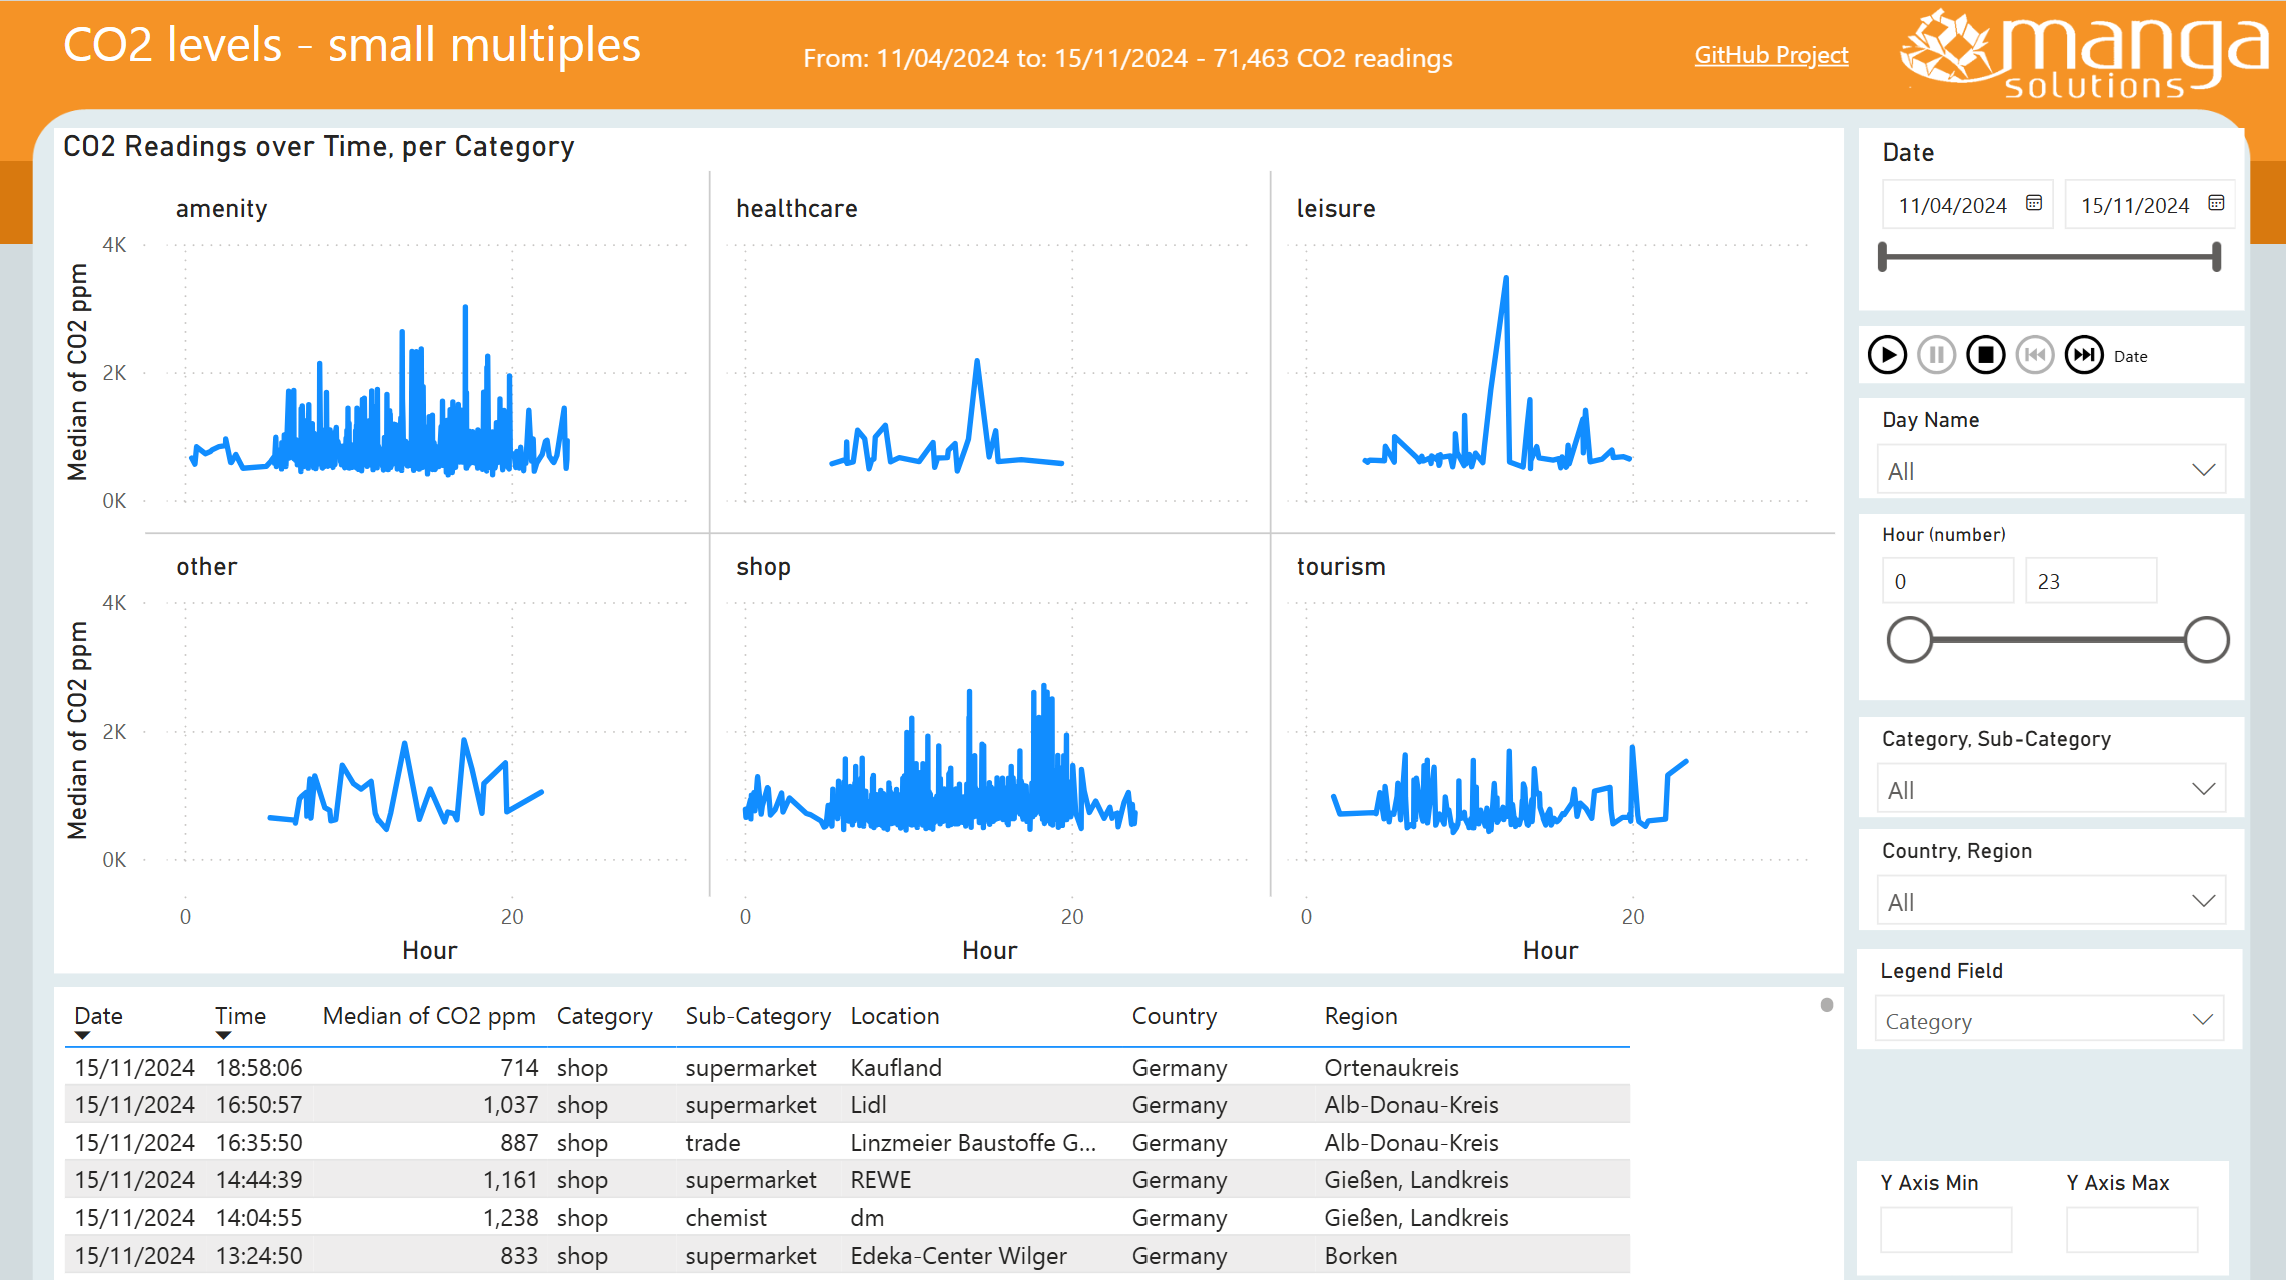

The dashboard page shown, as its layout file describes it:
{"tool":"powerbi","page":{"name":"Small Multiples","canvas":[1280,720],"ordinal":6},"visuals":[{"type":"slicer","fields":{"Values":["Y Axis Max.Y Axis Max"]},"box":[1144,648,104,64],"z":0},{"type":"slicer","title":"Y Axis Min","fields":{"Values":["^ Y Axis Min.^ Y Axis Min"]},"box":[1040,648,104,64],"z":1000},{"type":"actionButton","box":[1056,0,224,64],"z":2000},{"type":"textbox","box":[32,0,720,48],"z":3000},{"type":"htmlContent443BE3AD55E043BF878BED274D3A6865","fields":{"content":["Aranet Data.@ Date Range"]},"box":[408,16,464,32],"z":4000},{"type":"lineChart","fields":{"Y":["CO2 levels.# Median of CO2 ppm"],"Rows":["CO2 levels.Category"],"Category":["Aranet Data.Time (decimal)"]},"box":[32,72,1000,472],"z":5000},{"type":"tableEx","fields":{"Values":["CO2_readings.date","CO2_readings.Time","CO2 levels.# Median of CO2 ppm","CO2 levels.Category","CO2 levels.Sub-Category","CO2 levels.Location","CO2 levels.Country","CO2 levels.Region"]},"box":[31.9,551.5,1000.2,168.5],"z":7000},{"type":"slicer","fields":{"Values":["Parameter.Parameter"]},"box":[1040.1,529.4,215.5,55.9],"z":8000},{"type":"slicer","fields":{"Values":["CO2_readings.Day Name"]},"box":[1040.5,222.6,215.5,55.9],"z":9000},{"type":"slicer","fields":{"Values":["CO2_readings.date"]},"box":[1040.5,71.8,215.5,102],"z":10000},{"type":"slicer","fields":{"Values":["CO2_readings.Hour (number)1"]},"box":[1040.5,287.3,215.5,103.7],"z":11000},{"type":"PBI_CV_16948668_E17D_454B_8664_2F2C470EA8C1","fields":{"category":["CO2_readings.Date (Short)"]},"box":[1040.5,182.7,215.5,31.9],"z":12000},{"type":"slicer","fields":{"Values":["CO2 levels.Category","CO2 levels.Sub-Category"]},"box":[1040.5,399.9,215.5,55.9],"z":13000},{"type":"slicer","fields":{"Values":["CO2 levels.Country","CO2 levels.Region"]},"box":[1040.5,462.9,215.5,56.7],"z":14000},{"type":"textbox","box":[920,16,120,32],"z":15000}]}

Visuals, with their boxes on the page's 1280x720 design canvas (x1, y1, x2, y2). These are canvas units, not pixel positions in the 2286x1280 screenshot, which may show the page scaled, cropped or inside an application window:
slicer - Y Axis Max.Y Axis Max: l=1144, t=648, r=1248, b=712
"Y Axis Min" slicer: l=1040, t=648, r=1144, b=712
actionButton: l=1056, t=0, r=1280, b=64
textbox: l=32, t=0, r=752, b=48
htmlContent443BE3AD55E043BF878BED274D3A6865 - Aranet Data.@ Date Range: l=408, t=16, r=872, b=48
lineChart - CO2 levels.# Median of CO2 ppm x CO2 levels.Category: l=32, t=72, r=1032, b=544
tableEx - CO2_readings.date x CO2_readings.Time: l=32, t=552, r=1032, b=720
slicer - Parameter.Parameter: l=1040, t=529, r=1256, b=585
slicer - CO2_readings.Day Name: l=1040, t=223, r=1256, b=278
slicer - CO2_readings.date: l=1040, t=72, r=1256, b=174
slicer - CO2_readings.Hour (number)1: l=1040, t=287, r=1256, b=391
PBI_CV_16948668_E17D_454B_8664_2F2C470EA8C1 - CO2_readings.Date (Short): l=1040, t=183, r=1256, b=215
slicer - CO2 levels.Category x CO2 levels.Sub-Category: l=1040, t=400, r=1256, b=456
slicer - CO2 levels.Country x CO2 levels.Region: l=1040, t=463, r=1256, b=520
textbox: l=920, t=16, r=1040, b=48
